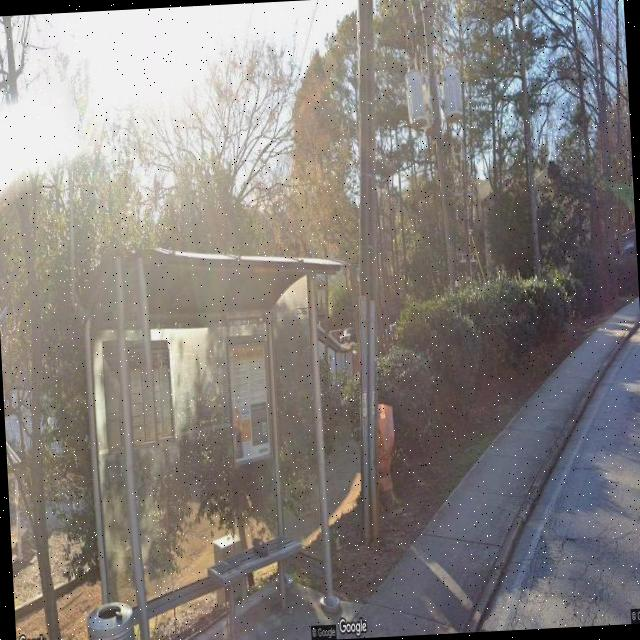seating: (204, 534, 306, 638)
shelter: (78, 246, 368, 640)
trash_can: (85, 602, 135, 640)
